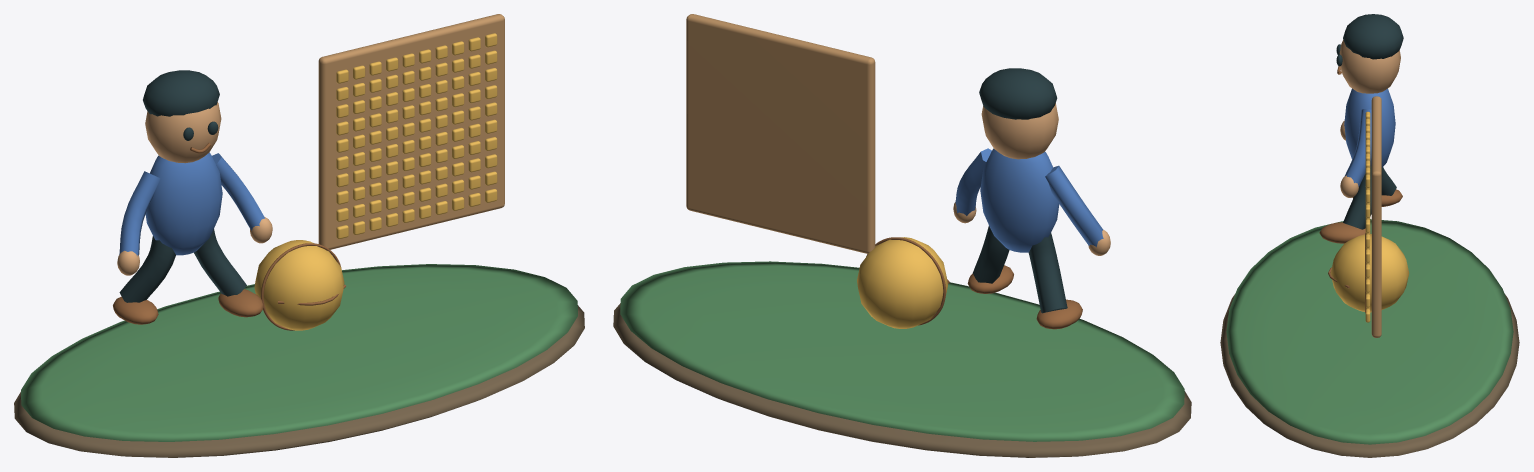
File: complete-first-touring-game.glb
The picture shows the model from 3 angles, left to right: view 1: azimuth 30°, elevation 25°; view 2: azimuth 150°, elevation 25°; view 3: azimuth 270°, elevation 25°; orthographic projection. The views are drawn at different scales.
Visible parts, largest first — view 1: complete-first-touring-game_surface_01, complete-first-touring-game_surface_06, complete-first-touring-game_surface_07, complete-first-touring-game_surface_00, complete-first-touring-game_surface_05, complete-first-touring-game_surface_03, complete-first-touring-game_surface_02, complete-first-touring-game_surface_04; view 2: complete-first-touring-game_surface_01, complete-first-touring-game_surface_06, complete-first-touring-game_surface_00, complete-first-touring-game_surface_05, complete-first-touring-game_surface_03, complete-first-touring-game_surface_07, complete-first-touring-game_surface_02, complete-first-touring-game_surface_04; view 3: complete-first-touring-game_surface_01, complete-first-touring-game_surface_00, complete-first-touring-game_surface_07, complete-first-touring-game_surface_03, complete-first-touring-game_surface_05, complete-first-touring-game_surface_06, complete-first-touring-game_surface_02, complete-first-touring-game_surface_04.
Part boxes in pixels (x1,y1,x2,y2): complete-first-touring-game_surface_01: (21,264,577,441); complete-first-touring-game_surface_06: (318,14,504,249); complete-first-touring-game_surface_07: (254,33,497,330); complete-first-touring-game_surface_00: (14,305,584,457); complete-first-touring-game_surface_05: (119,152,265,256); complete-first-touring-game_surface_03: (119,70,246,302); complete-first-touring-game_surface_02: (117,102,272,275); complete-first-touring-game_surface_04: (113,143,345,330); complete-first-touring-game_surface_01: (620,261,1184,441); complete-first-touring-game_surface_06: (686,14,875,253); complete-first-touring-game_surface_00: (613,303,1191,457); complete-first-touring-game_surface_05: (955,148,1103,252); complete-first-touring-game_surface_03: (973,68,1067,313); complete-first-touring-game_surface_07: (857,237,947,328); complete-first-touring-game_surface_02: (953,103,1110,255); complete-first-touring-game_surface_04: (866,237,1082,329); complete-first-touring-game_surface_01: (1226,219,1513,444); complete-first-touring-game_surface_00: (1220,294,1519,457); complete-first-touring-game_surface_07: (1330,111,1409,322); complete-first-touring-game_surface_03: (1336,14,1403,229); complete-first-touring-game_surface_05: (1344,88,1395,187); complete-first-touring-game_surface_06: (1371,96,1381,337); complete-first-touring-game_surface_02: (1339,40,1400,197); complete-first-touring-game_surface_04: (1319,66,1402,312).
Bounding box in the file's own units: 4.56 × 2.67 × 2.5.
